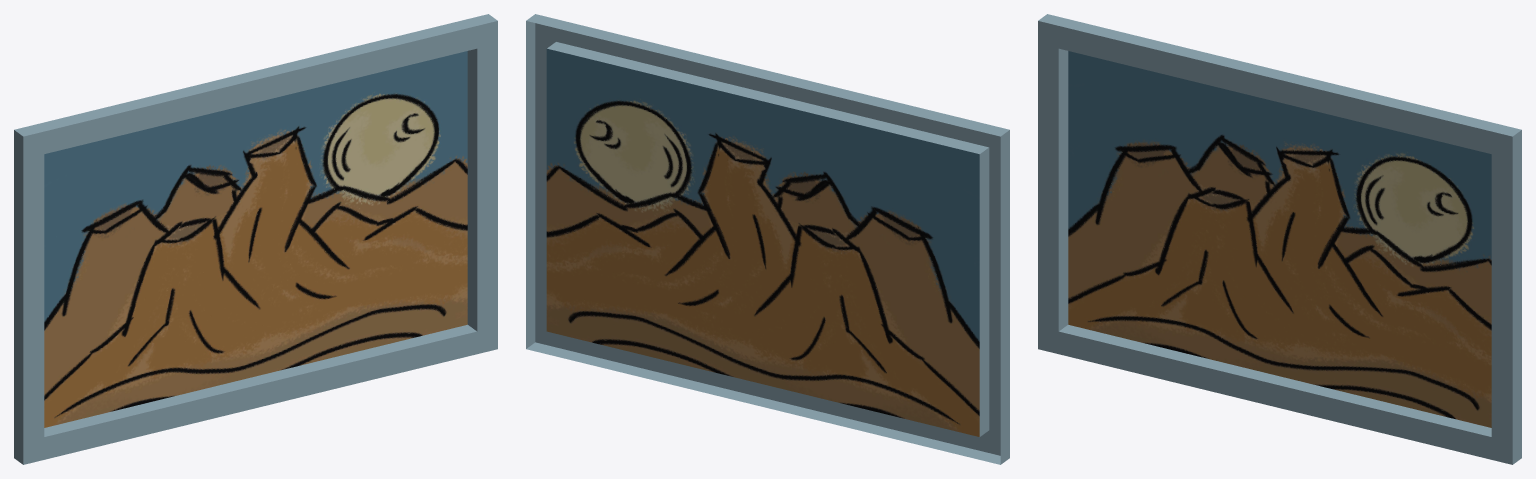
The model's file is Picture.fbx.
The picture shows the model from 3 angles, left to right: view 1: azimuth 30°, elevation 25°; view 2: azimuth 150°, elevation 25°; view 3: azimuth 330°, elevation 25°; orthographic projection.
Visible parts, largest first — view 1: polySurface2; view 2: polySurface2; view 3: polySurface2.
Boxes of the visible parts, box(x1,y1,x2,y2) form: polySurface2: box(14, 14, 497, 464); polySurface2: box(526, 14, 1009, 464); polySurface2: box(1038, 14, 1521, 464).
Size of the model in its own units: 10.31 by 6.82 by 0.3515.
